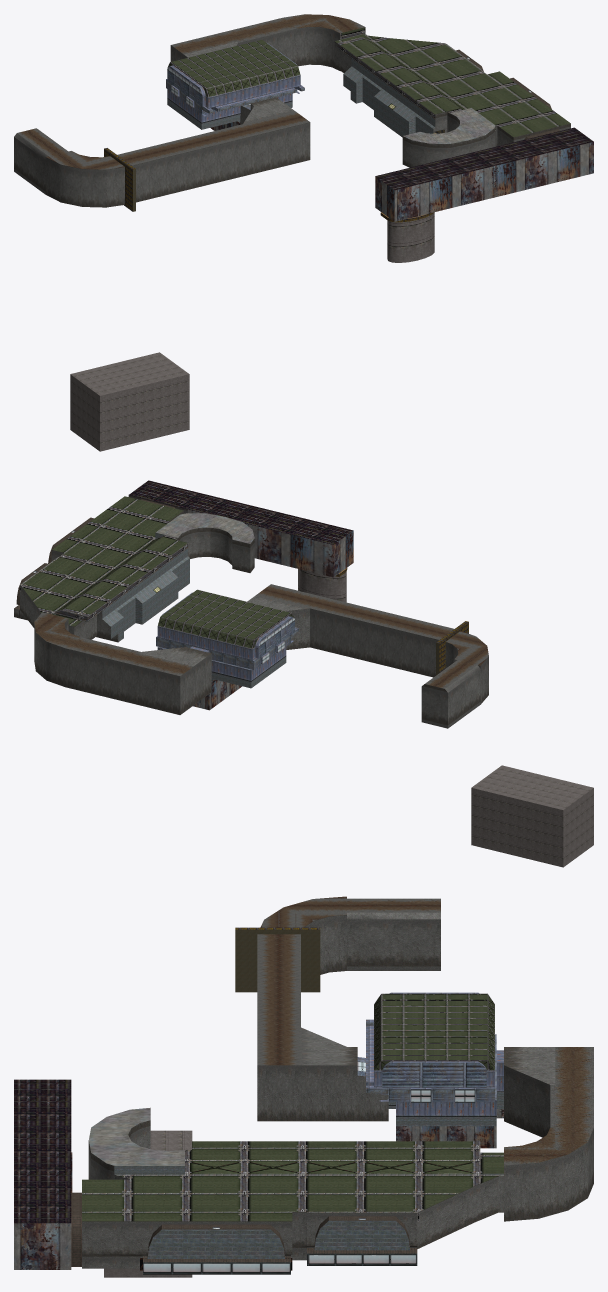
File: c0c0aHL.glb
The picture shows the model from 3 angles, top to bottom: view 1: azimuth 30°, elevation 25°; view 2: azimuth 150°, elevation 25°; view 3: azimuth 270°, elevation 25°; orthographic projection. The views are drawn at different scales.
Parts seen in each view (by area): view 1: node32, node38, node17, node49, node39, node16, node4, node3, node23, node43, node6, node41 (+1 smaller); view 2: node32, node38, node17, node39, node16, node49, node4, node3, node23, node43, node6, node10; view 3: node32, node38, node39, node16, node4, node23, node49, node8, node6, node3, node7, node43 (+3 smaller).
Part boxes in pixels (box(x1,y1,x2,y2)): node32: box(14, 27, 570, 207); node38: box(170, 27, 570, 137); node17: box(70, 212, 434, 451); node49: box(210, 121, 593, 221); node39: box(17, 14, 365, 169); node16: box(375, 127, 593, 190); node4: box(343, 59, 435, 137); node3: box(166, 42, 304, 122); node23: box(167, 37, 497, 131); node43: box(238, 108, 495, 143); node6: box(166, 57, 531, 114); node41: box(104, 148, 433, 222); node32: box(14, 495, 488, 728); node38: box(20, 496, 291, 639); node17: box(298, 568, 593, 867); node39: box(34, 584, 488, 688); node16: box(129, 480, 352, 544); node49: box(188, 509, 353, 710); node4: box(102, 532, 189, 641); node3: box(156, 592, 298, 680); node23: box(20, 535, 294, 648); node43: box(156, 513, 254, 679); node6: box(33, 530, 298, 669); node10: box(211, 655, 286, 688); node32: box(82, 912, 593, 1268); node38: box(82, 993, 503, 1221); node39: box(257, 896, 593, 1165); node16: box(14, 1079, 71, 1223); node4: box(114, 1091, 503, 1258); node23: box(185, 994, 494, 1221); node49: box(14, 1109, 503, 1269); node8: box(143, 1061, 475, 1274); node6: box(212, 1022, 496, 1227); node3: box(366, 992, 503, 1115); node7: box(71, 1192, 417, 1266); node43: box(89, 1107, 184, 1165).
Size of the model in its own units: 7055 by 3528 by 5103.
57 materials, 57 textured.
